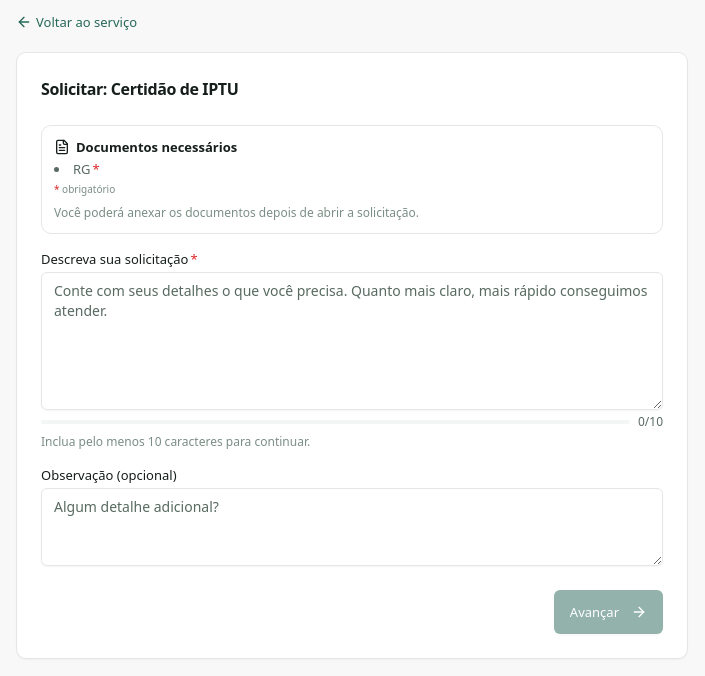
Test: Solicitar serviço (PR 4b) › UX-1: contador mostra progresso atual / mínimo (10)
The width and height of the screenshot is (705, 676).
expect the heading "Documentos necessários" is shown: met, box [54,138,237,156]
expect the text "0/10" is shown: met, box [638,414,663,430]
Step 1. Replace the text in the text box labelled "Descreva sua solicitação*" with "alguma coisa aqui" → (352, 341), box [41,272,663,410]
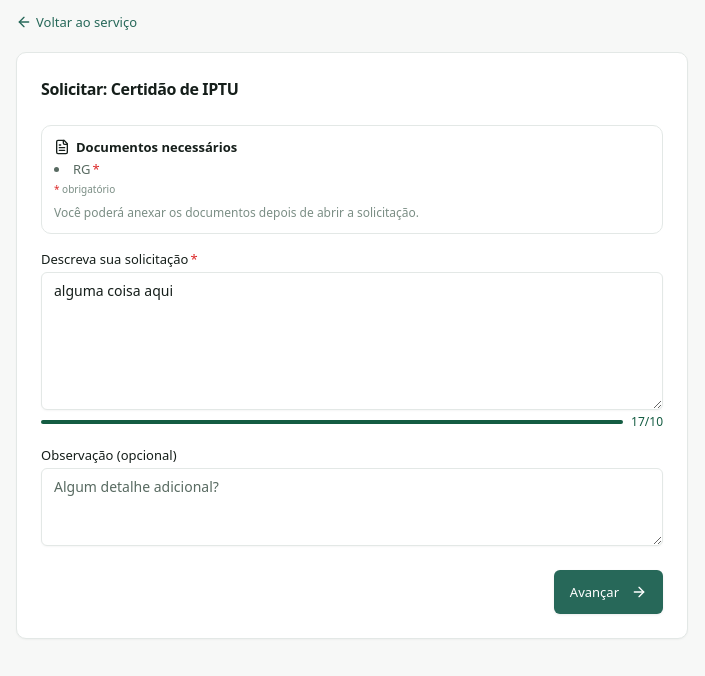
expect the text "17/10" is shown: met, box [631,414,663,430]
